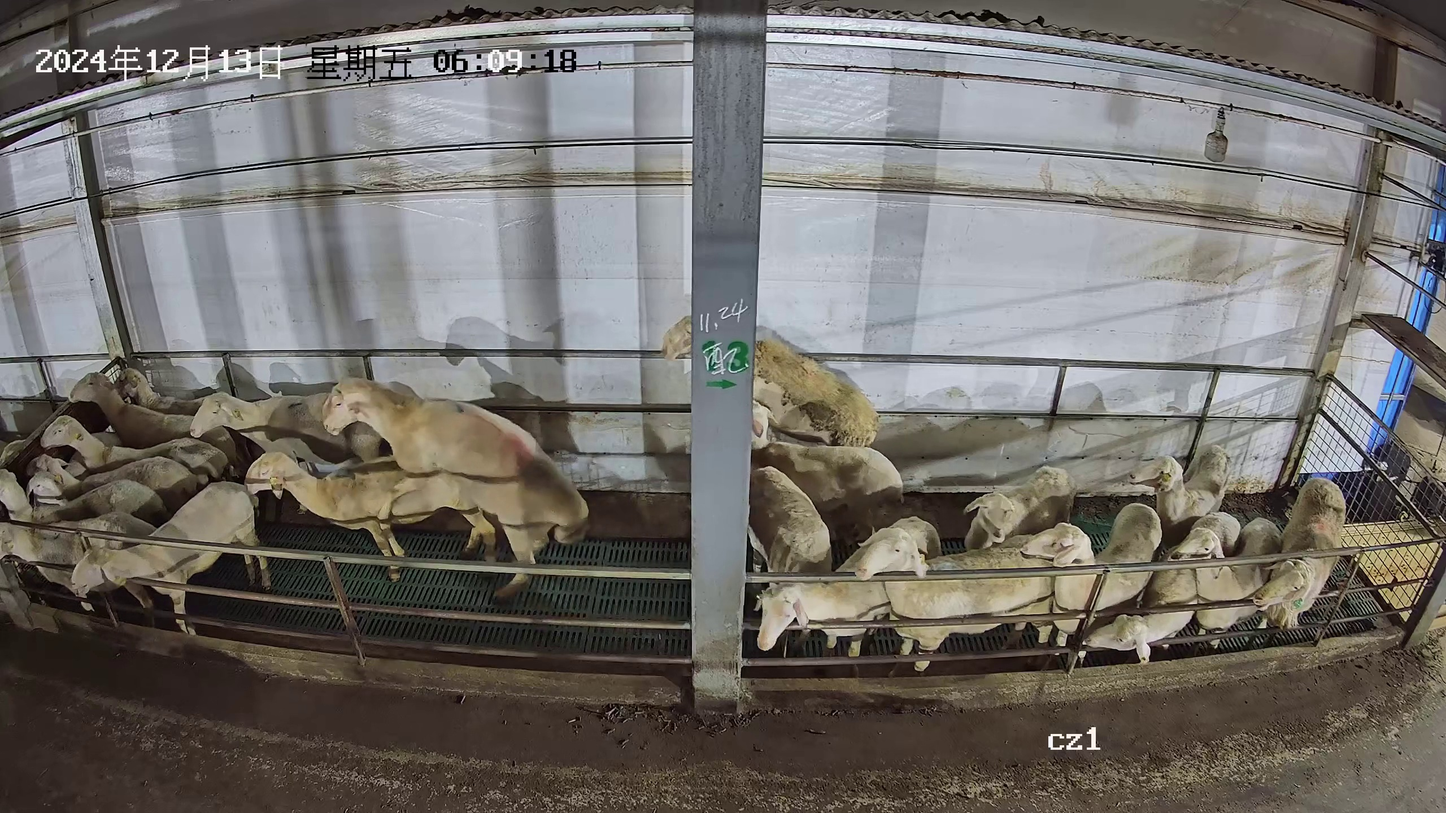Smounting: (243, 374, 590, 600)
mounted: (246, 447, 501, 585)
